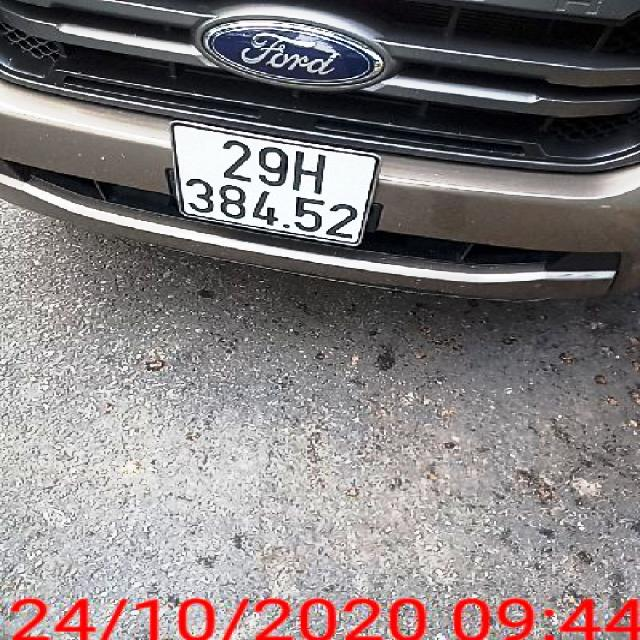license_plate: (178, 122, 381, 245)
